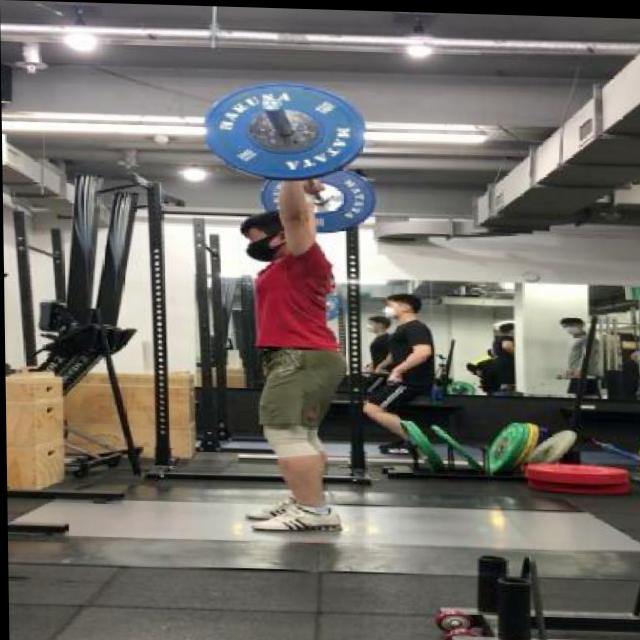barbell: (202, 73, 371, 186)
